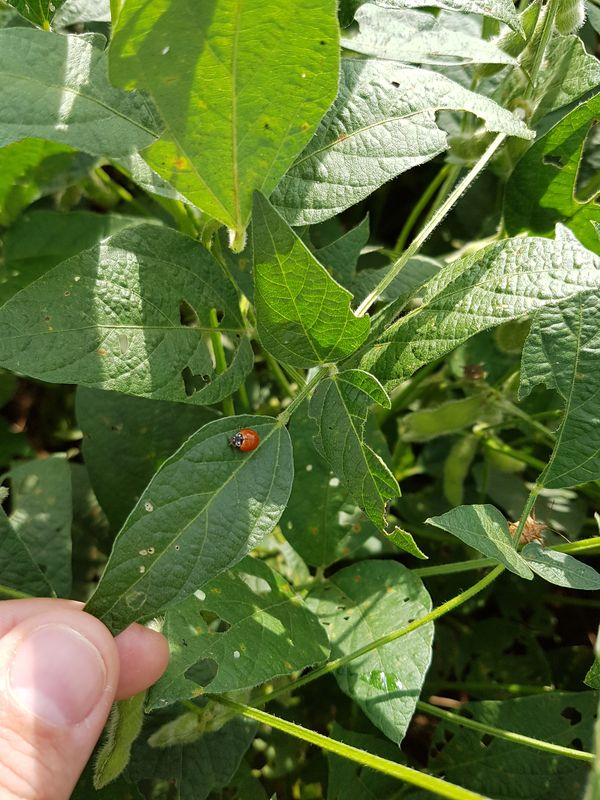Coccinellidae: (224, 424, 263, 458)
Euschistus_heros_adulto: (502, 505, 559, 553), (458, 360, 489, 387)
